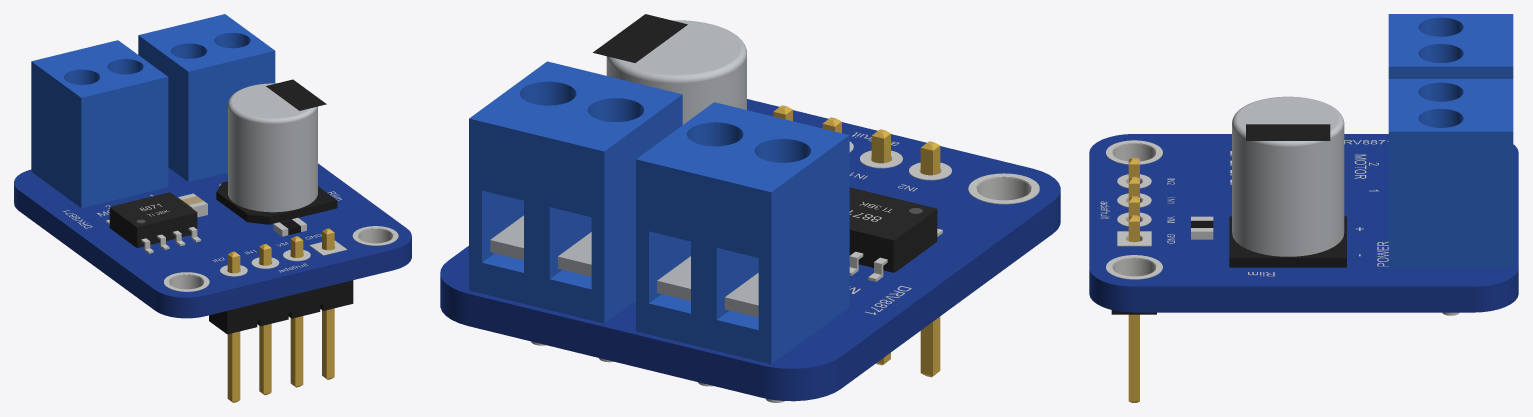
File: drv8871-breakout.glb
The picture shows the model from 3 angles, left to right: view 1: azimuth 30°, elevation 25°; view 2: azimuth 150°, elevation 25°; view 3: azimuth 270°, elevation 25°; orthographic projection. The views are drawn at different scales.
Parts seen in each view (by area): view 1: pcb, term_MOTOR, term_POWER, can, body, hdr_JP2_body, base, pin_JP2_4, pin_JP2_2, pin_JP2_1, pin_JP2_3, mark (+5 smaller); view 2: term_MOTOR, pcb, term_POWER, can, body, mark, pin_JP2_4, part_o1_4_3, part_o1_10_4_2, part_o1_11_4_2, part_o1_10_4_1, part_o1_11_4_1 (+2 smaller); view 3: pcb, term_POWER, can, term_MOTOR, base, mark, pin_JP2_1, silkscreen, part_o1_4_6, part_o1_4_3, part_o1_4_4, part_o1_4_1 (+2 smaller).
Part boxes in pixels (box(x1,y1,x2,y2)): pcb: box(14, 163, 411, 318); term_MOTOR: box(31, 40, 168, 207); term_POWER: box(138, 14, 275, 181); can: box(228, 83, 317, 212); body: box(109, 192, 197, 247); hdr_JP2_body: box(209, 280, 353, 334); base: box(216, 181, 337, 224); pin_JP2_4: box(227, 251, 240, 402); pin_JP2_2: box(290, 236, 303, 387); pin_JP2_1: box(322, 228, 334, 379); pin_JP2_3: box(259, 244, 271, 395); mark: box(266, 79, 326, 110); term_MOTOR: box(636, 102, 849, 364); pcb: box(440, 99, 1060, 401); term_POWER: box(469, 61, 682, 323); can: box(606, 20, 746, 124); body: box(849, 187, 937, 272); mark: box(593, 14, 687, 62); pin_JP2_4: box(920, 141, 940, 377); part_o1_4_3: box(976, 177, 1031, 200); part_o1_10_4_2: box(724, 273, 758, 317); part_o1_11_4_2: box(558, 232, 591, 276); part_o1_10_4_1: box(657, 256, 690, 300); part_o1_11_4_1: box(490, 215, 523, 260); pcb: box(1089, 134, 1518, 312); term_POWER: box(1388, 79, 1513, 268); can: box(1232, 96, 1344, 256); term_MOTOR: box(1388, 14, 1513, 78); base: box(1229, 216, 1346, 267); mark: box(1246, 124, 1330, 140); pin_JP2_1: box(1128, 215, 1139, 402); silkscreen: box(1100, 140, 1388, 276); part_o1_4_6: box(1112, 258, 1156, 276); part_o1_4_3: box(1112, 143, 1156, 161); part_o1_4_4: box(1106, 255, 1162, 279); part_o1_4_1: box(1106, 140, 1162, 164).
Size of the model in its own units: 0.0203 by 0.0186 by 0.0241.
